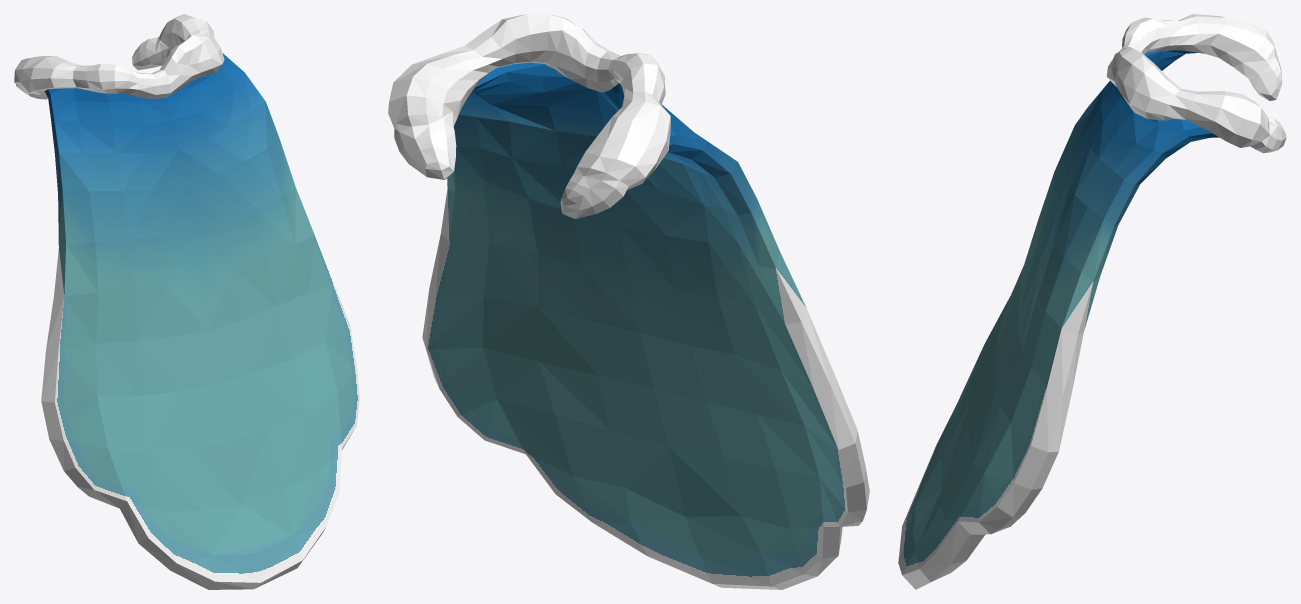
File: CharSkyKid_Wing_NatureWaterfall.glb
3 renders of one model, left to right at view 1: azimuth 30°, elevation 25°; view 2: azimuth 150°, elevation 25°; view 3: azimuth 270°, elevation 25°, orthographic. The views are drawn at different scales.
Parts seen in each view (by area): view 1: CharSkyKid_Wing_NatureWaterfall; view 2: CharSkyKid_Wing_NatureWaterfall; view 3: CharSkyKid_Wing_NatureWaterfall.
Part boxes in pixels (bbox=[...]): CharSkyKid_Wing_NatureWaterfall: bbox=[14, 14, 359, 589]; CharSkyKid_Wing_NatureWaterfall: bbox=[388, 14, 869, 589]; CharSkyKid_Wing_NatureWaterfall: bbox=[898, 14, 1286, 589].
Bounding box in the file's own units: 4.74 × 6.93 × 4.5.
Materials: 1 (1 with a texture image).
